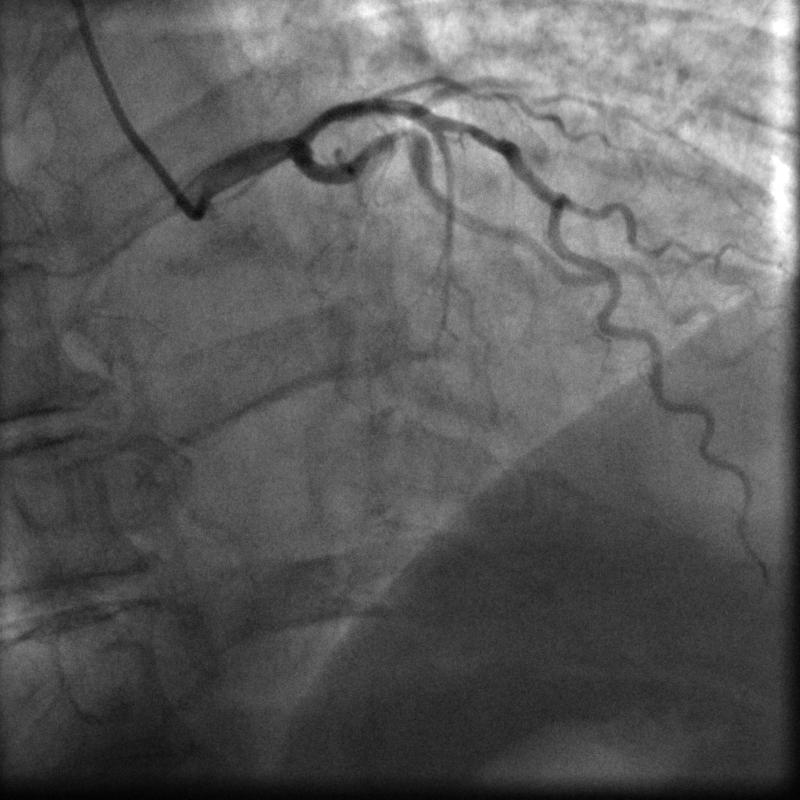Stenosis: (372, 121, 422, 150)
